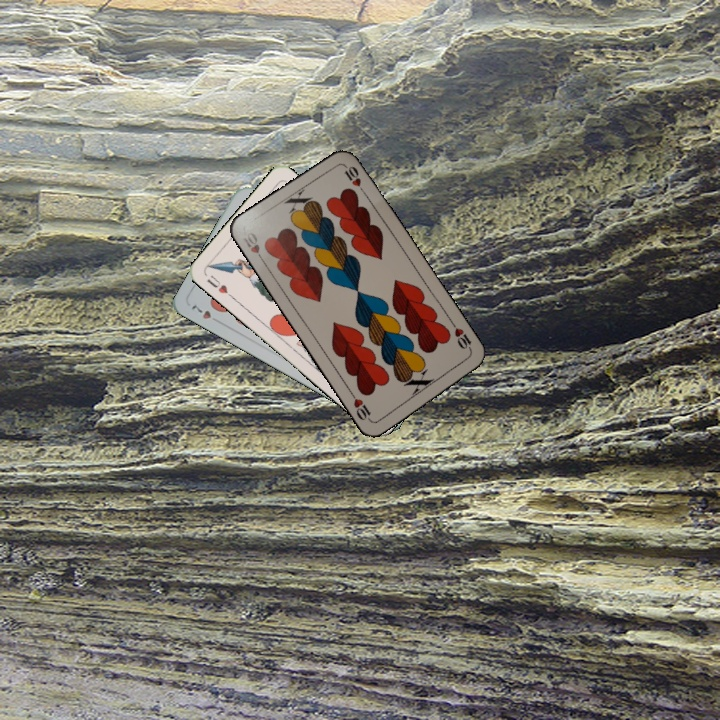H10: (238, 228, 267, 266), (447, 318, 475, 354)
H7: (187, 301, 224, 325)
HU: (202, 271, 236, 301)
